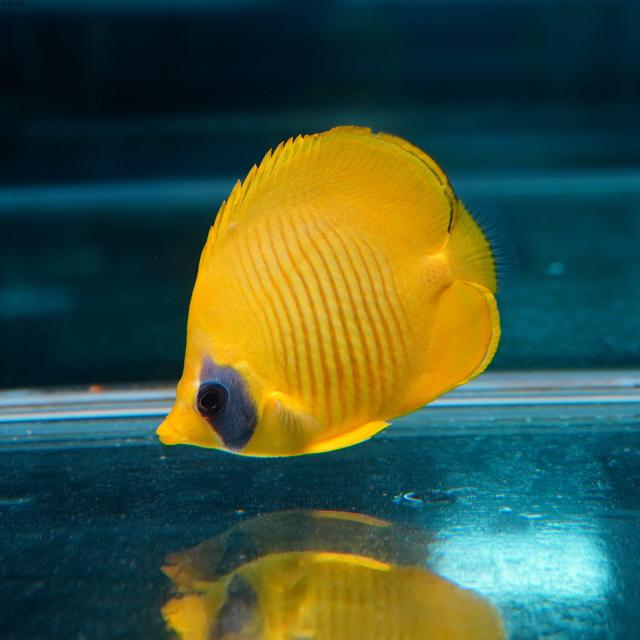ButterflyFish: (154, 125, 510, 458)
